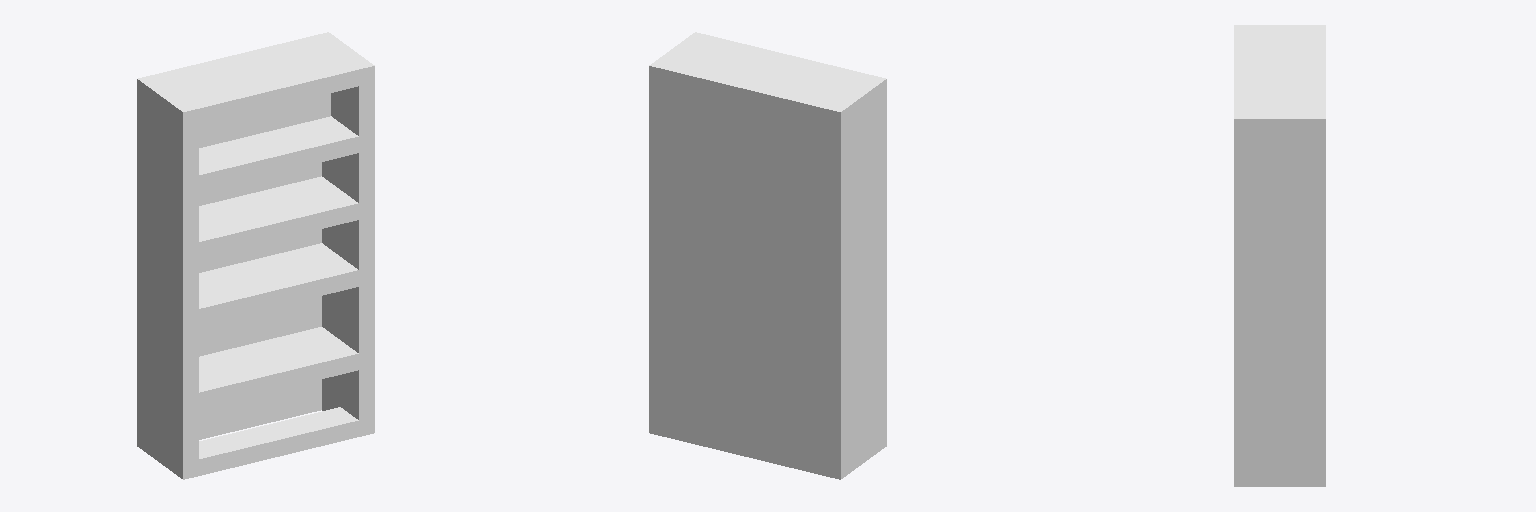
Rendered from Billy01.obj.
3 views of the same model, side by side, from view 1: azimuth 30°, elevation 25°; view 2: azimuth 150°, elevation 25°; view 3: azimuth 270°, elevation 25° (orthographic).
Parts seen in each view (by area): view 1: object 1; view 2: object 1; view 3: object 1.
Part boxes in pixels (left/top/right/bottom): object 1: left=137, top=32, right=374, bottom=479; object 1: left=649, top=32, right=886, bottom=479; object 1: left=1234, top=25, right=1325, bottom=486.
Bounding box in the file's own units: 1.2 × 2.2 × 0.5.